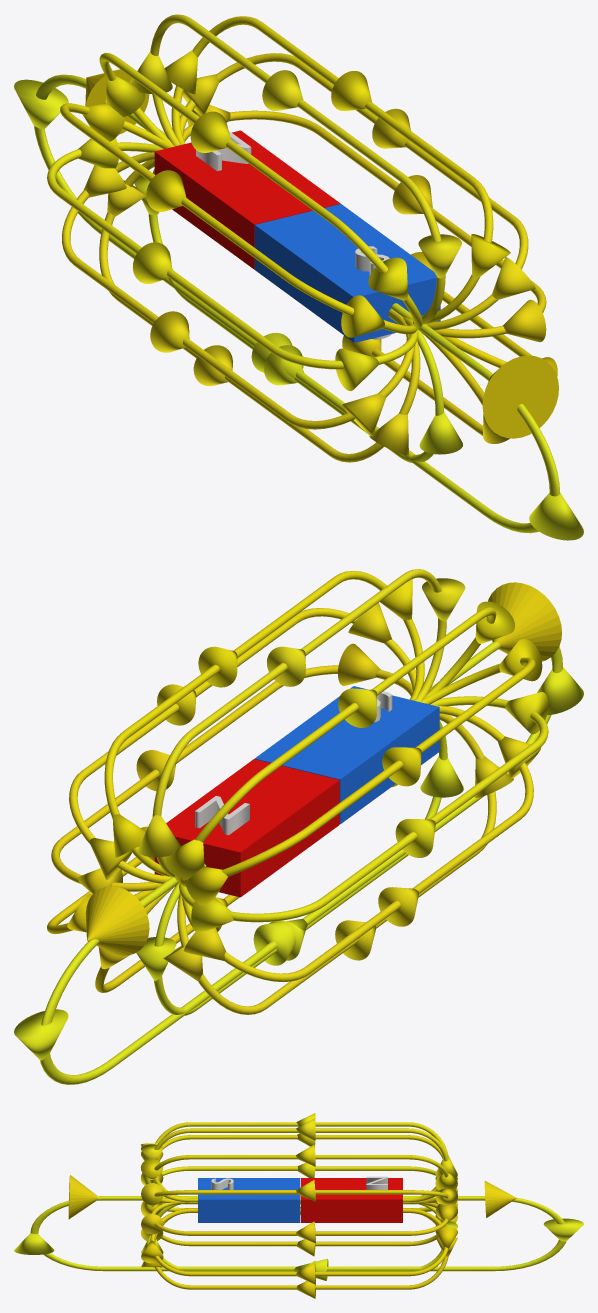
Rendered from magneticFieldLinesMagnetForGltf.gltf.
3 views of the same model, one above another, from view 1: azimuth 30°, elevation 25°; view 2: azimuth 150°, elevation 25°; view 3: azimuth 270°, elevation 25° (orthographic). The views are drawn at different scales.
Parts seen in each view (by area): view 1: Cube.001, Cone.015, Cube, Cone.004, Cone.005, Cone.009, Cone.008, Cone.007, Cone.006, Cone.003, Cone.010, Cone.001 (+6 smaller); view 2: Cube, Cone.015, Cube.001, Cone.004, Cone.007, Cone.005, Cone.008, Cone.006, Cone.009, Cone.003, Cone.001, Cone.010 (+6 smaller); view 3: Cone.015, Cube.001, Cube, Cone.011, Cone.005, Cone.001, Cone.003, Cone.004, Cone.012, Cone.010, Cone.007, Cone.006 (+6 smaller).
Part boxes in pixels (<box>): Cube.001: <box>254,204,440,342</box>; Cone.015: <box>14,74,583,540</box>; Cube: <box>154,130,340,269</box>; Cone.004: <box>129,14,461,324</box>; Cone.005: <box>164,16,510,323</box>; Cone.009: <box>62,152,415,435</box>; Cone.008: <box>60,103,416,337</box>; Cone.007: <box>47,138,418,391</box>; Cone.006: <box>99,52,422,329</box>; Cone.003: <box>180,53,535,330</box>; Cone.010: <box>99,160,420,462</box>; Cone.001: <box>183,104,546,342</box>; Cube: <box>154,759,339,897</box>; Cone.015: <box>14,641,583,1084</box>; Cube.001: <box>254,686,439,824</box>; Cone.004: <box>138,569,465,877</box>; Cone.007: <box>179,692,548,931</box>; Cone.005: <box>104,571,424,876</box>; Cone.008: <box>180,639,542,905</box>; Cone.006: <box>165,601,514,882</box>; Cone.009: <box>182,705,540,981</box>; Cone.003: <box>69,602,416,883</box>; Cone.001: <box>51,643,412,893</box>; Cone.010: <box>163,713,513,1014</box>; Cone.015: <box>14,1196,583,1280</box>; Cube.001: <box>198,1178,300,1222</box>; Cube: <box>301,1178,402,1222</box>; Cone.011: <box>141,1208,457,1284</box>; Cone.005: <box>141,1145,457,1202</box>; Cone.001: <box>141,1202,457,1243</box>; Cone.003: <box>141,1180,457,1205</box>; Cone.004: <box>141,1118,457,1196</box>; Cone.012: <box>141,1208,457,1298</box>; Cone.010: <box>141,1209,457,1256</box>; Cone.007: <box>141,1163,457,1203</box>; Cone.006: <box>141,1113,456,1190</box>.
Bounding box in the file's own units: 5.6 × 5.59 × 17.85.
